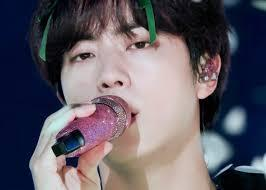earphone: (194, 56, 219, 87)
